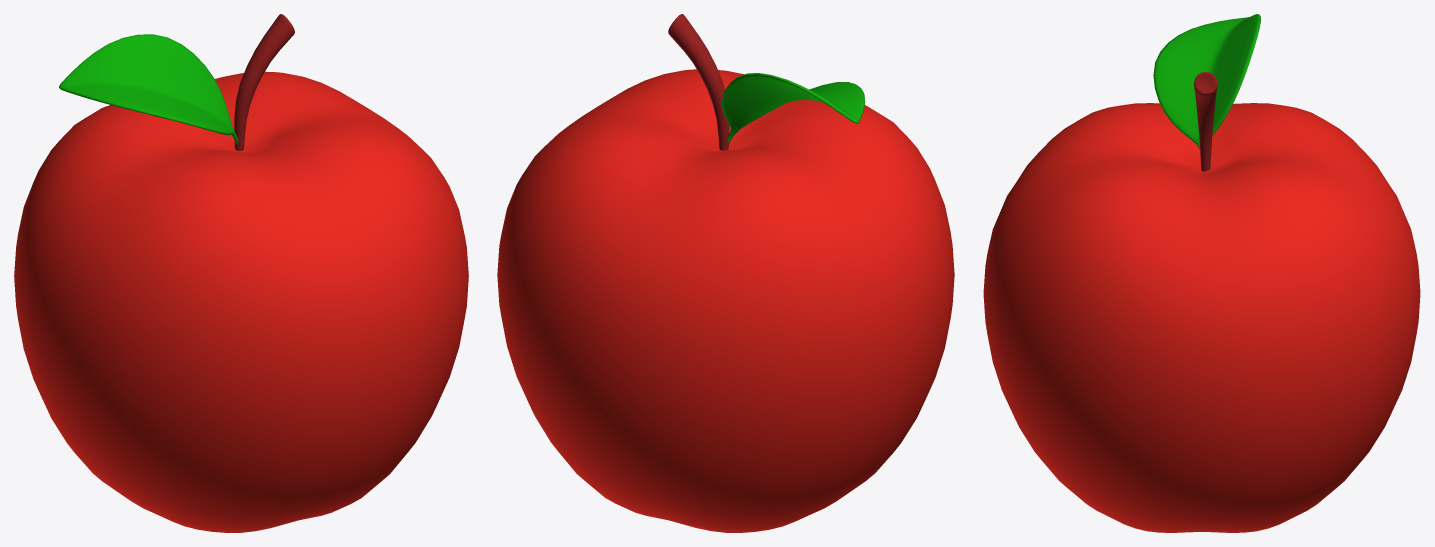
The model's file is apple.glb.
3 renders of one model, left to right at view 1: azimuth 30°, elevation 25°; view 2: azimuth 150°, elevation 25°; view 3: azimuth 270°, elevation 25°, orthographic. The views are drawn at different scales.
Visible parts, largest first — view 1: Apple.001; view 2: Apple.001; view 3: Apple.001.
Part boxes in pixels (x1,y1,x2,y2): Apple.001: (14, 14, 468, 532); Apple.001: (497, 14, 954, 532); Apple.001: (983, 14, 1420, 532).
Size of the model in its own units: 0.7853 by 0.9015 by 0.7853.
